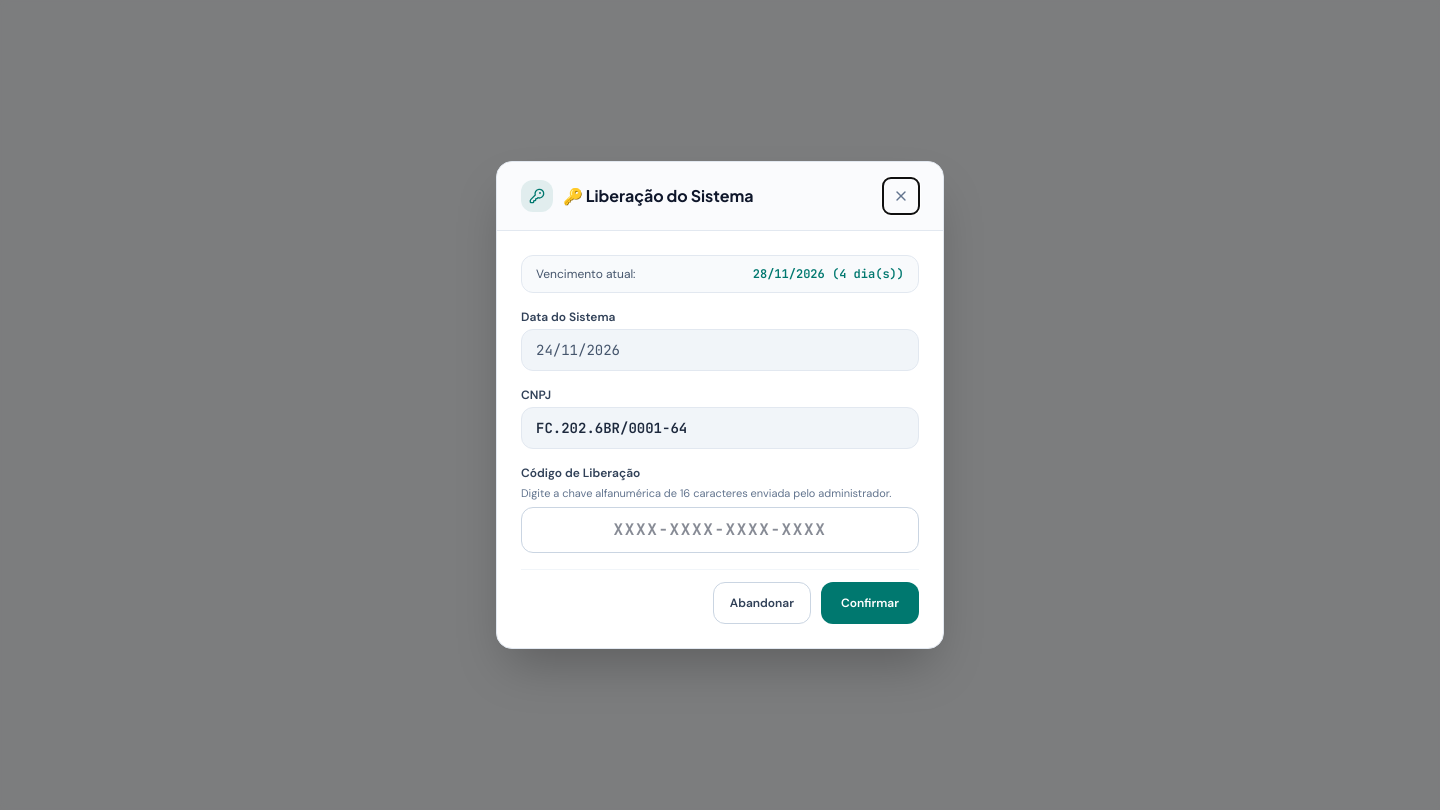
SystemReleaseModal & Gestão Master de Licenças (Fase 10.2) › realiza a liberação com sucesso ao submeter um código válido e notifica o callback onActivated
Type "02HC-A9B8-C7D6-E5F4" into the field with test id "release-code-input" at (720, 530), box 521,507 -> 919,553
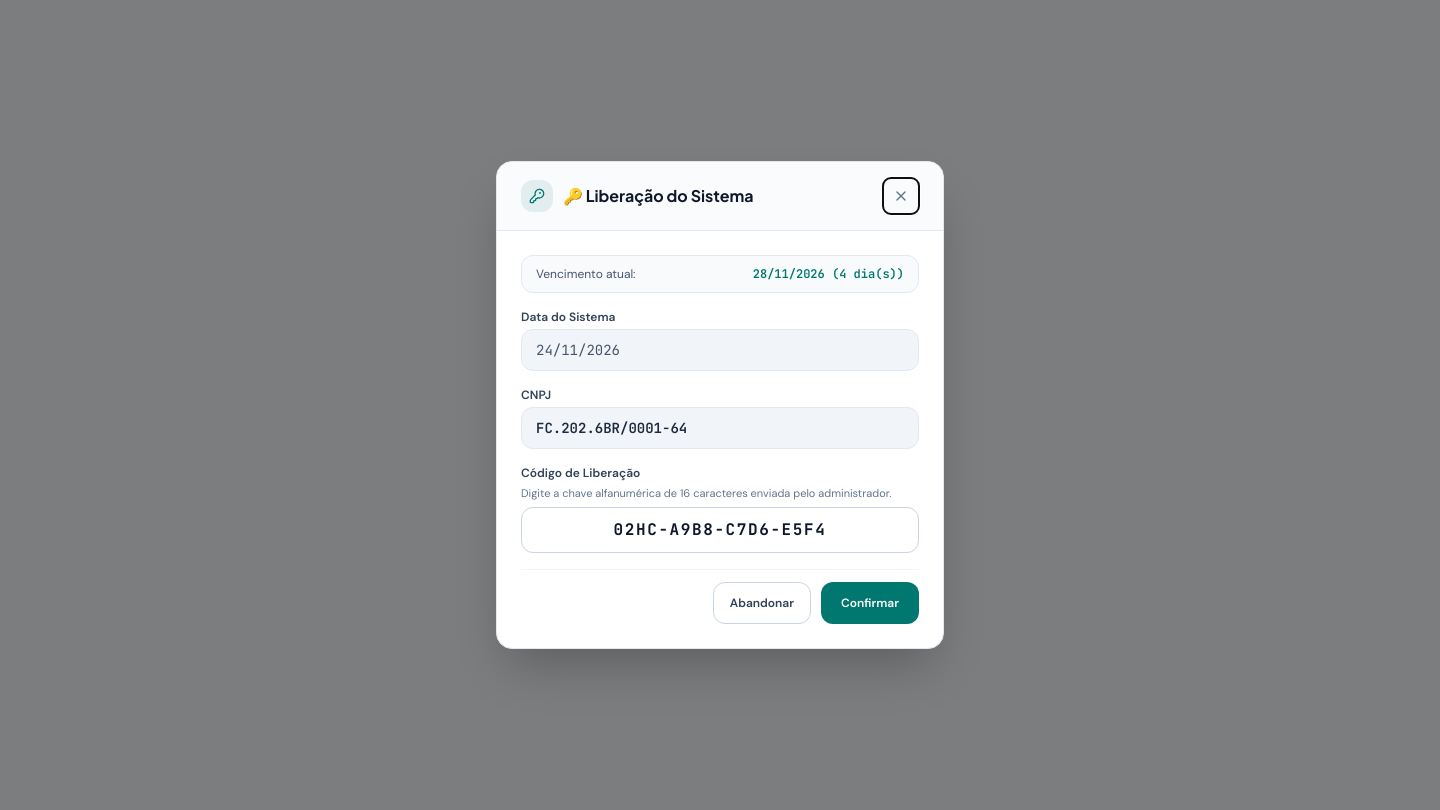
Click the button with test id "release-confirm-button" at (870, 603), box 821,582 -> 919,624
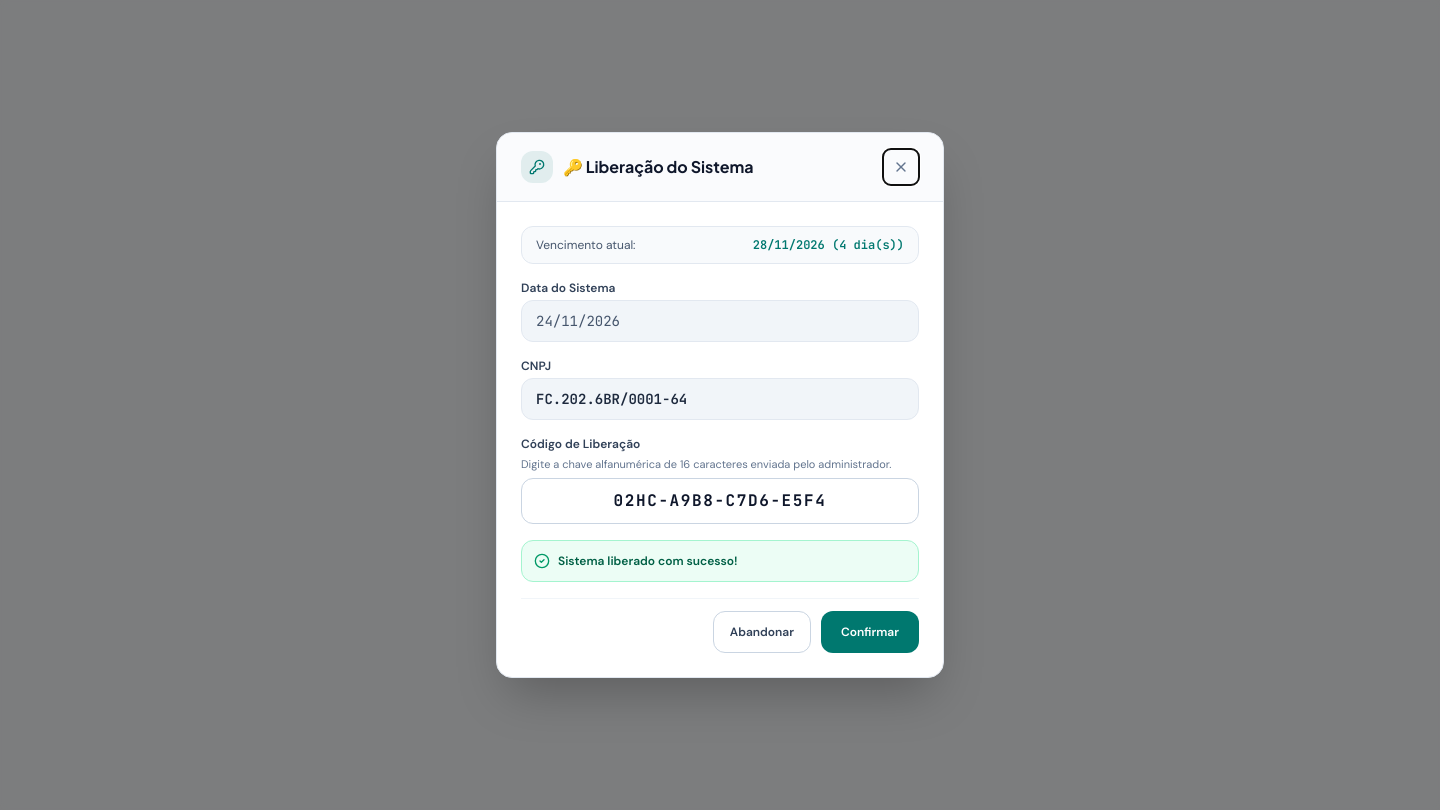
Check: the message with test id "release-modal-success" reads "Sistema liberado com sucesso!", box 558,553 -> 738,569
